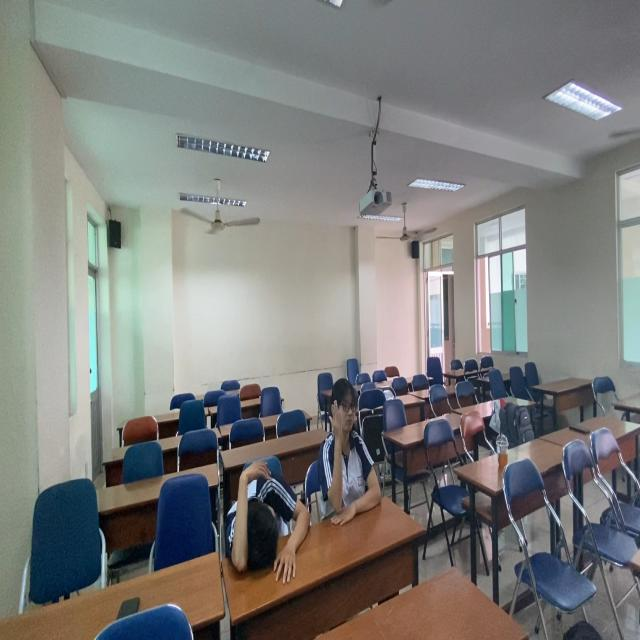raise_hand: (318, 381, 373, 525)
sleep: (227, 461, 313, 600)
